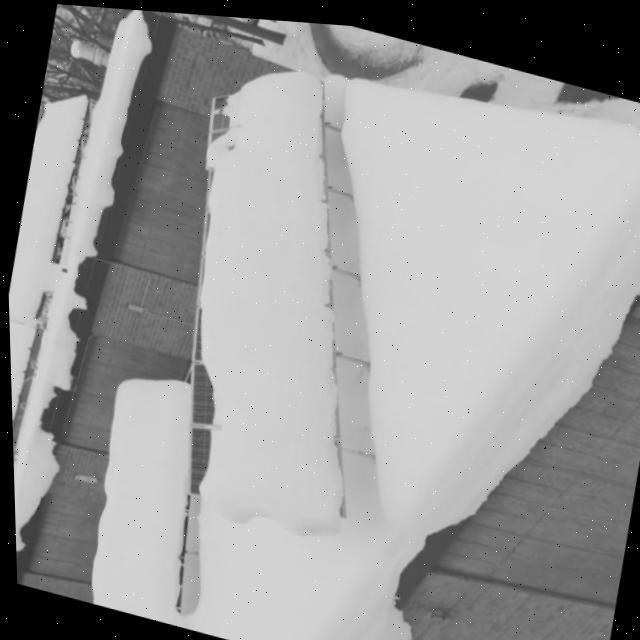Anomaly Solar Panel: (185, 75, 339, 511), (87, 379, 187, 624), (7, 90, 85, 324), (7, 319, 30, 414)
Snow: (184, 74, 341, 510), (86, 379, 187, 624), (7, 93, 86, 322), (7, 320, 31, 416)
